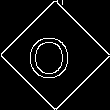O_N: (34, 30, 76, 80)
